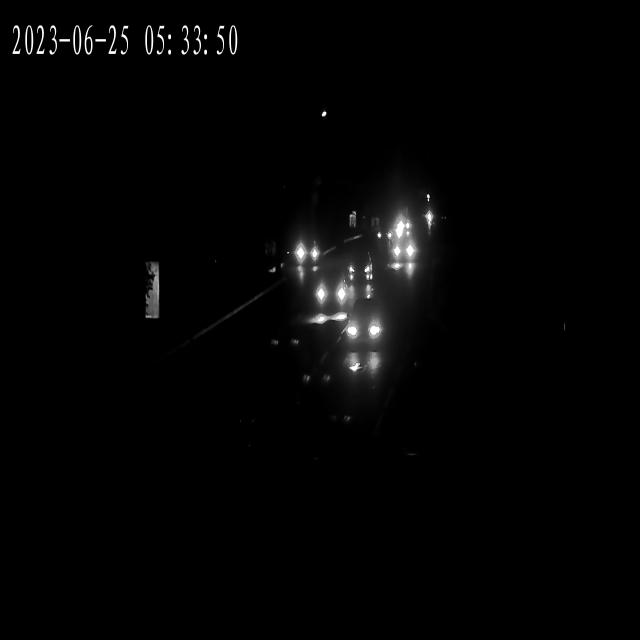Car: (348, 302, 386, 365), (312, 266, 351, 312), (292, 218, 324, 274), (348, 244, 374, 292), (392, 234, 418, 270), (378, 214, 396, 245), (392, 212, 408, 233)
